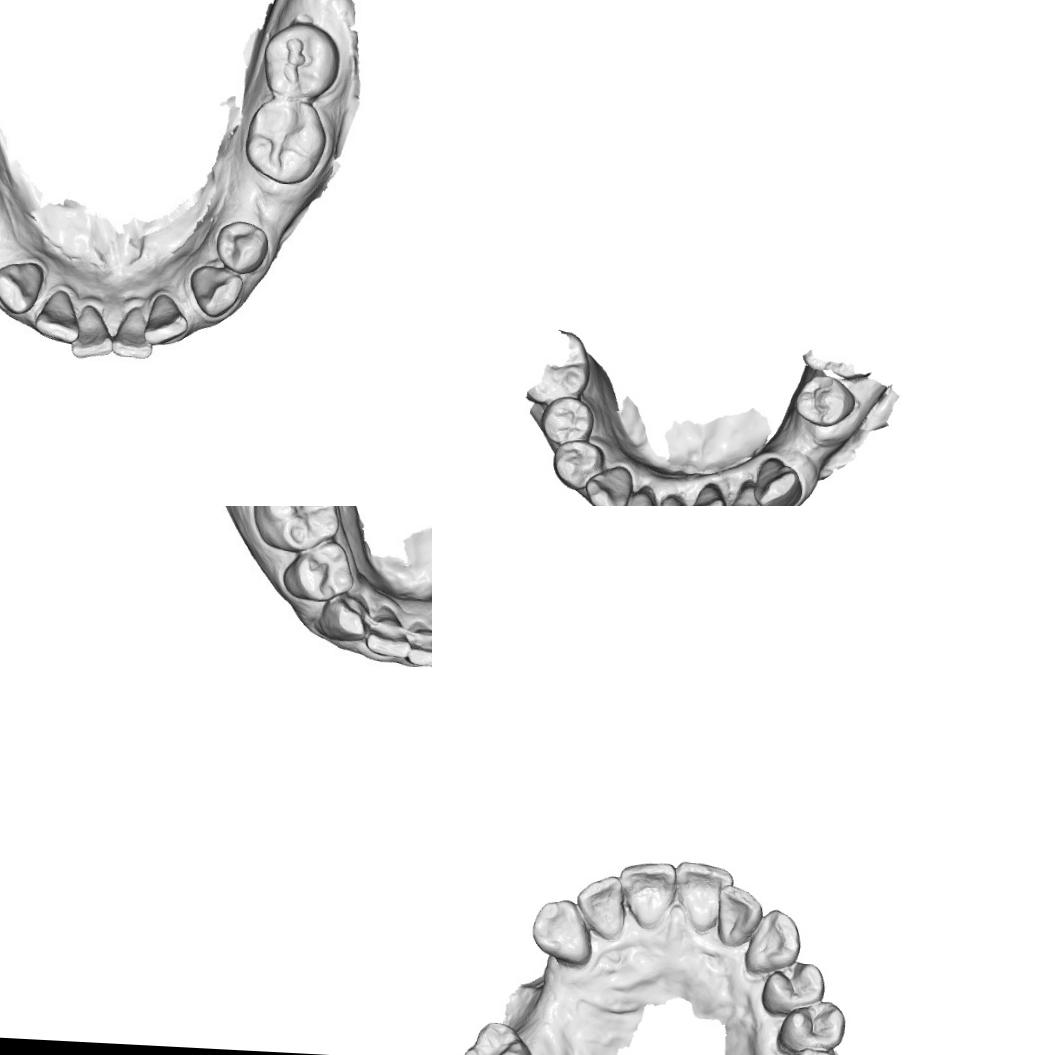canine: (529, 896, 595, 970), (742, 905, 802, 978), (186, 259, 243, 321), (316, 591, 370, 644), (0, 255, 46, 316), (753, 455, 804, 506), (582, 463, 633, 506)
incisor: (670, 859, 736, 934), (616, 857, 678, 931), (573, 872, 627, 942), (712, 882, 764, 948), (137, 290, 190, 346), (109, 303, 161, 360), (363, 601, 412, 661), (32, 288, 84, 342), (68, 300, 112, 362), (403, 617, 432, 669), (723, 478, 773, 506), (685, 480, 727, 506), (609, 486, 658, 506)
molar: (241, 95, 332, 188), (258, 19, 344, 104), (522, 325, 592, 407), (249, 506, 343, 554), (457, 1018, 541, 1055)
premolar: (280, 536, 358, 604), (774, 996, 848, 1055), (758, 958, 826, 1018), (792, 374, 858, 428), (212, 218, 272, 276), (538, 394, 595, 448), (550, 436, 604, 492)
